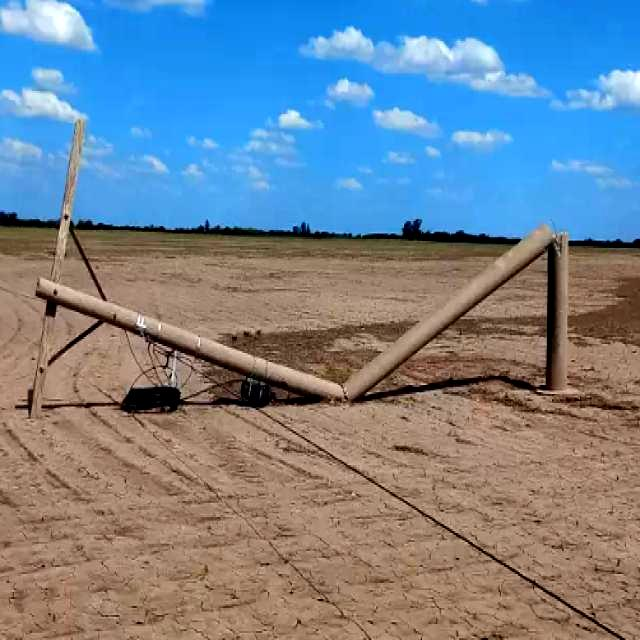Broken Pole: (16, 119, 568, 419)
